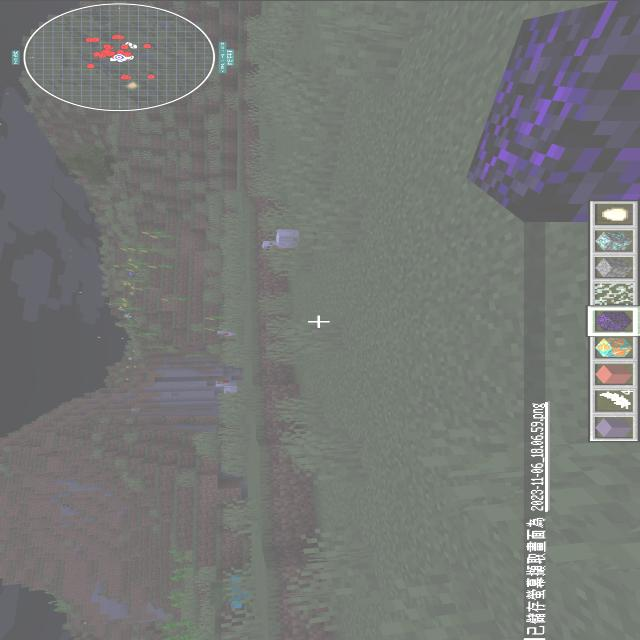Zombie: (200, 568, 258, 614)
chicken: (258, 226, 310, 256), (212, 374, 246, 398), (214, 322, 242, 338)
